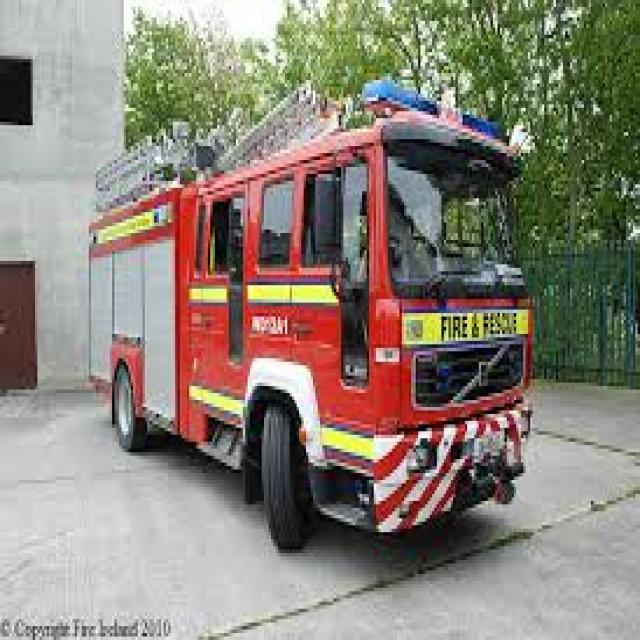Fire_brigade: (72, 28, 558, 570)
